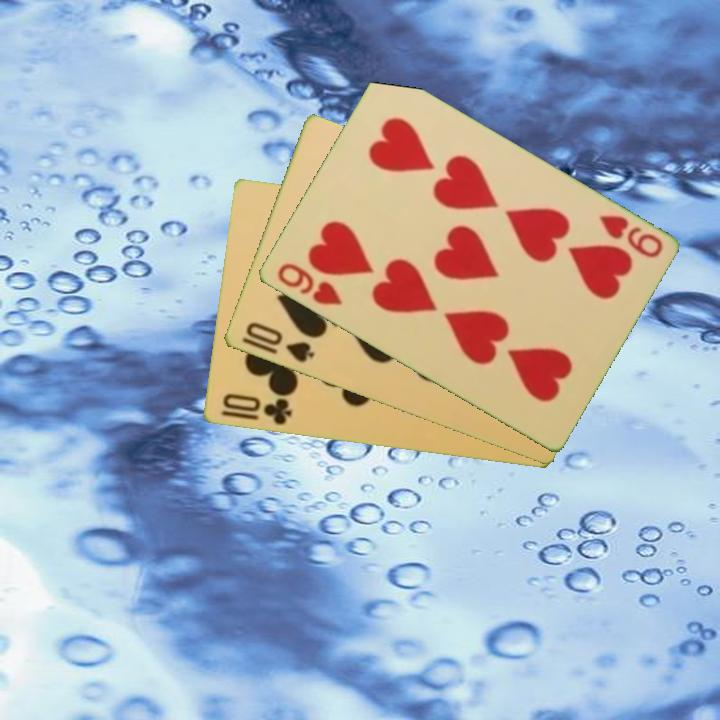10c: (219, 390, 294, 428)
10s: (241, 318, 317, 366)
9h: (273, 259, 345, 309), (595, 211, 666, 261)
